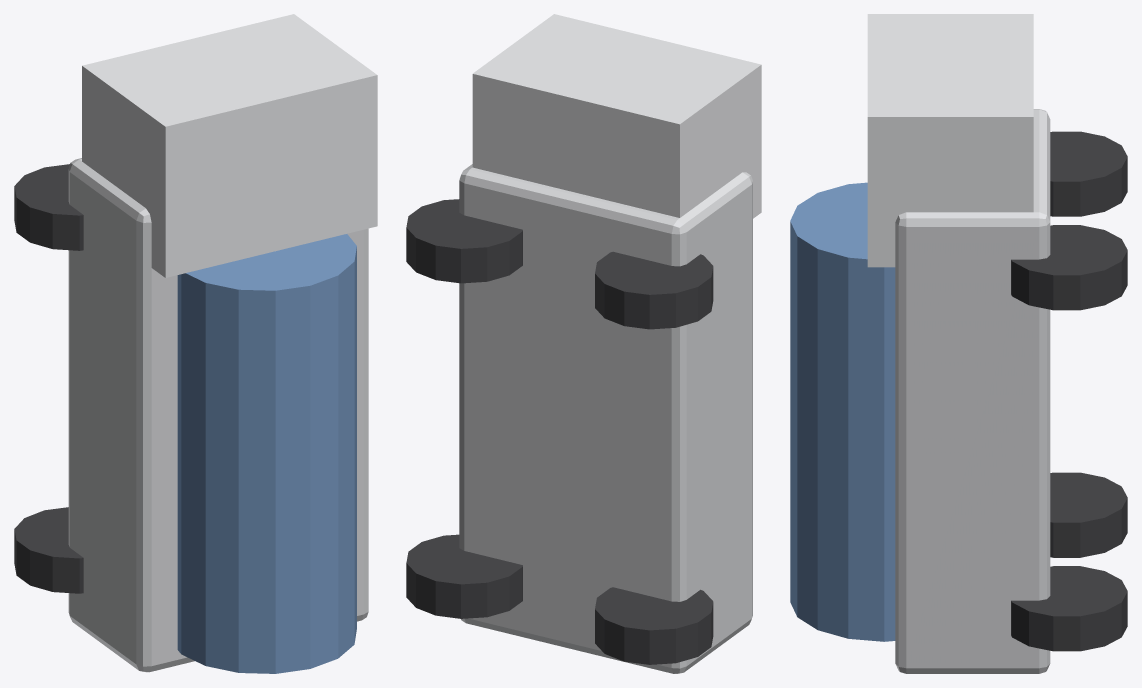
File: water_truck.glb
3 views of the same model, side by side, from view 1: azimuth 30°, elevation 25°; view 2: azimuth 150°, elevation 25°; view 3: azimuth 270°, elevation 25° (orthographic). The views are drawn at different scales.
Parts seen in each view (by area): view 1: water_tank, truck_cab, truck_body, wt_wheel_0, wt_wheel_2; view 2: truck_body, truck_cab, wt_wheel_0, wt_wheel_2, wt_wheel_3, wt_wheel_1; view 3: truck_body, water_tank, truck_cab, wt_wheel_1, wt_wheel_3, wt_wheel_0, wt_wheel_2.
Boxes of the visible parts, bbox=[...] form: water_tank: bbox=[177, 234, 356, 673]; truck_cab: bbox=[82, 14, 377, 277]; truck_body: bbox=[68, 158, 368, 672]; wt_wheel_0: bbox=[14, 507, 83, 593]; wt_wheel_2: bbox=[14, 164, 83, 250]; truck_body: bbox=[459, 164, 752, 673]; truck_cab: bbox=[472, 14, 761, 218]; wt_wheel_0: bbox=[595, 587, 713, 664]; wt_wheel_2: bbox=[595, 251, 713, 329]; wt_wheel_3: bbox=[406, 199, 522, 283]; wt_wheel_1: bbox=[406, 534, 522, 618]; truck_body: bbox=[895, 109, 1050, 673]; water_tank: bbox=[790, 182, 895, 641]; truck_cab: bbox=[867, 14, 1033, 267]; wt_wheel_1: bbox=[1011, 566, 1127, 651]; wt_wheel_3: bbox=[1011, 225, 1127, 310]; wt_wheel_0: bbox=[1050, 472, 1127, 557]; wt_wheel_2: bbox=[1050, 131, 1127, 216].
Size of the model in its own units: 3.07 by 5.55 by 3.05.
